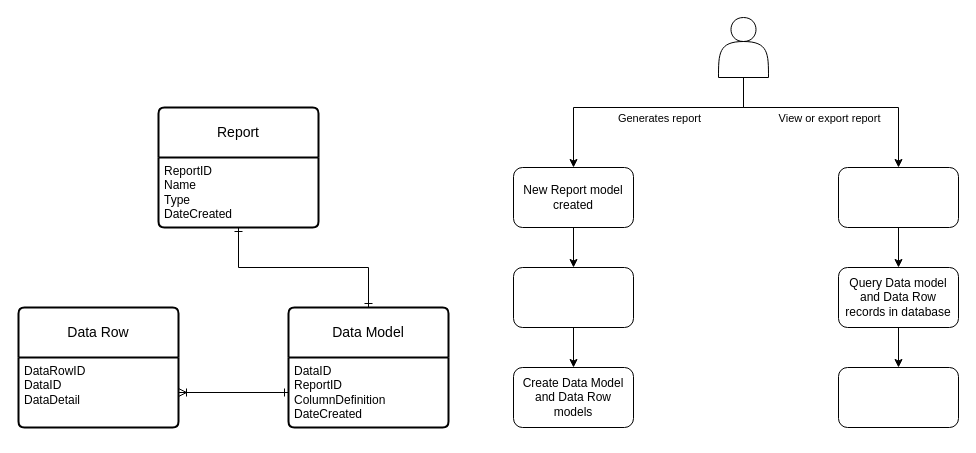
Image size: 976x453. Some labels were removed from this diagram. Here are the shapes that lost their labels. From the top down, the centre of each, then its label:
the point at 898,197: Get report ID
the point at 573,297: Query database for report parameters
the point at 898,397: Format Data Row records according to Data model ColumnDefinition
